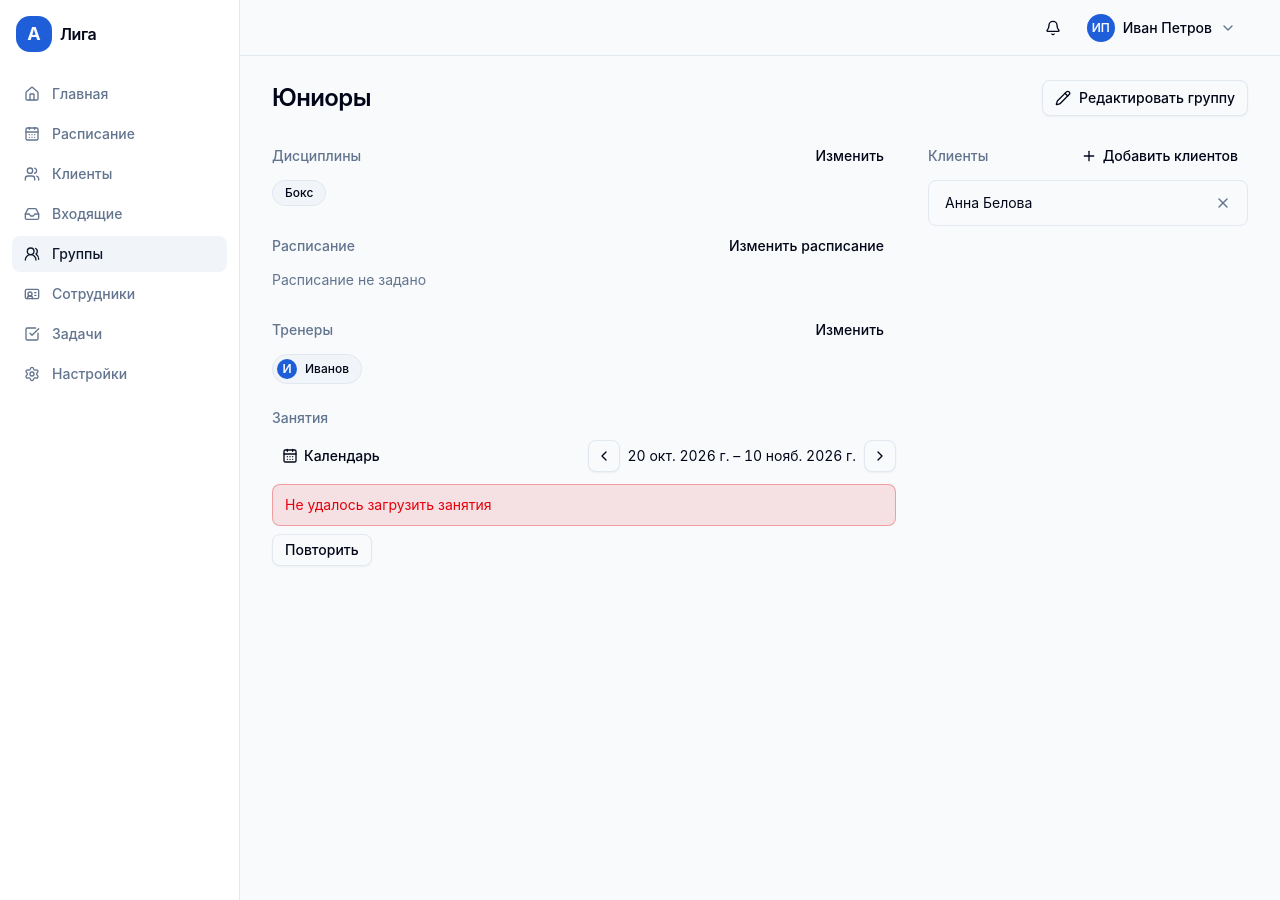
дисциплины и тренеры в карточке › снятие всех дисциплин оставляет группу без дисциплин
The width and height of the screenshot is (1280, 900).
Expected: the list item "Бокс" is shown, [272,180,326,206]
Step 1. Click the button "Изменить" in the row of "Дисциплины" → [850, 156], box [804,140,896,172]
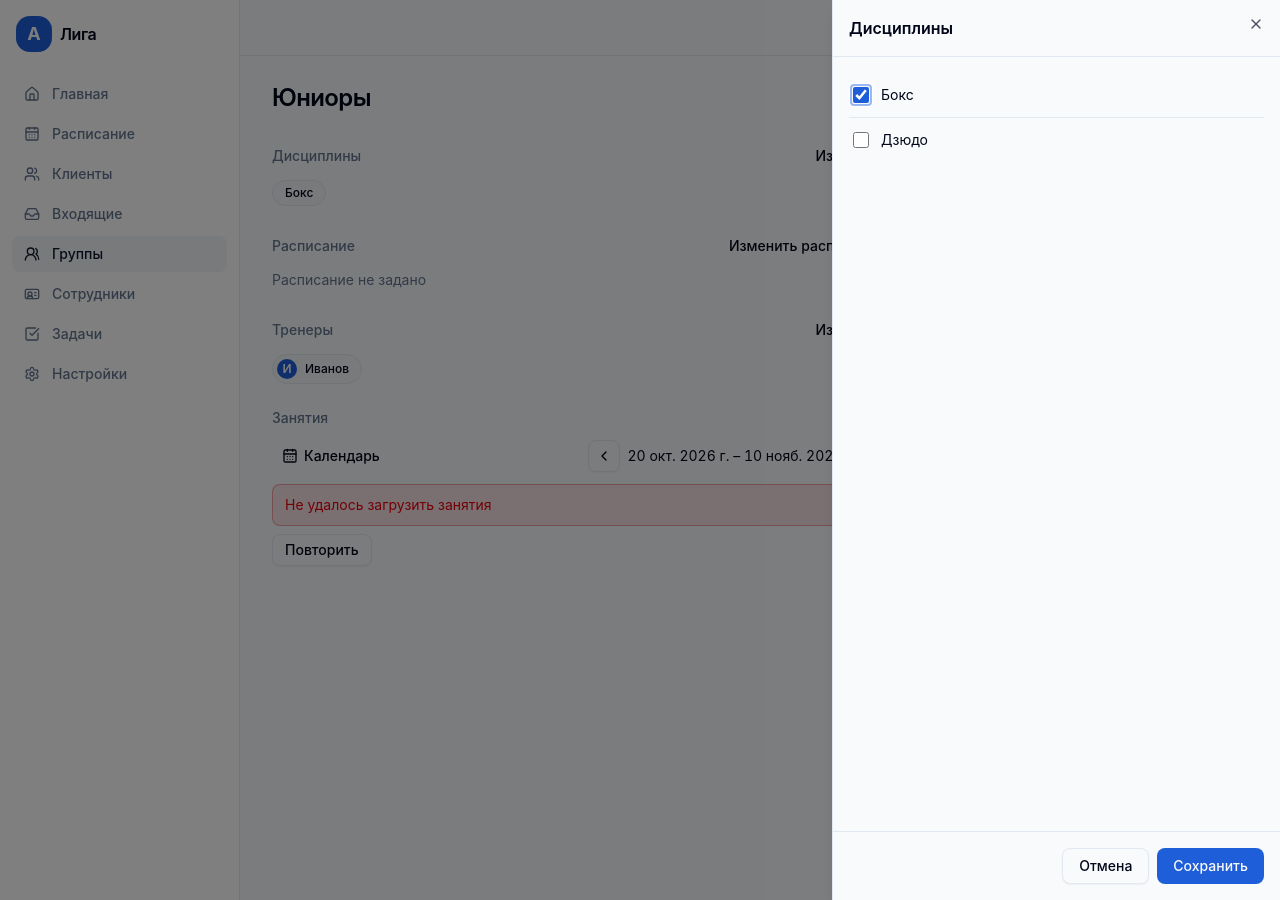
Step 2. Click the checkbox labelled "Бокс" → [861, 95], box [853,87,869,103]
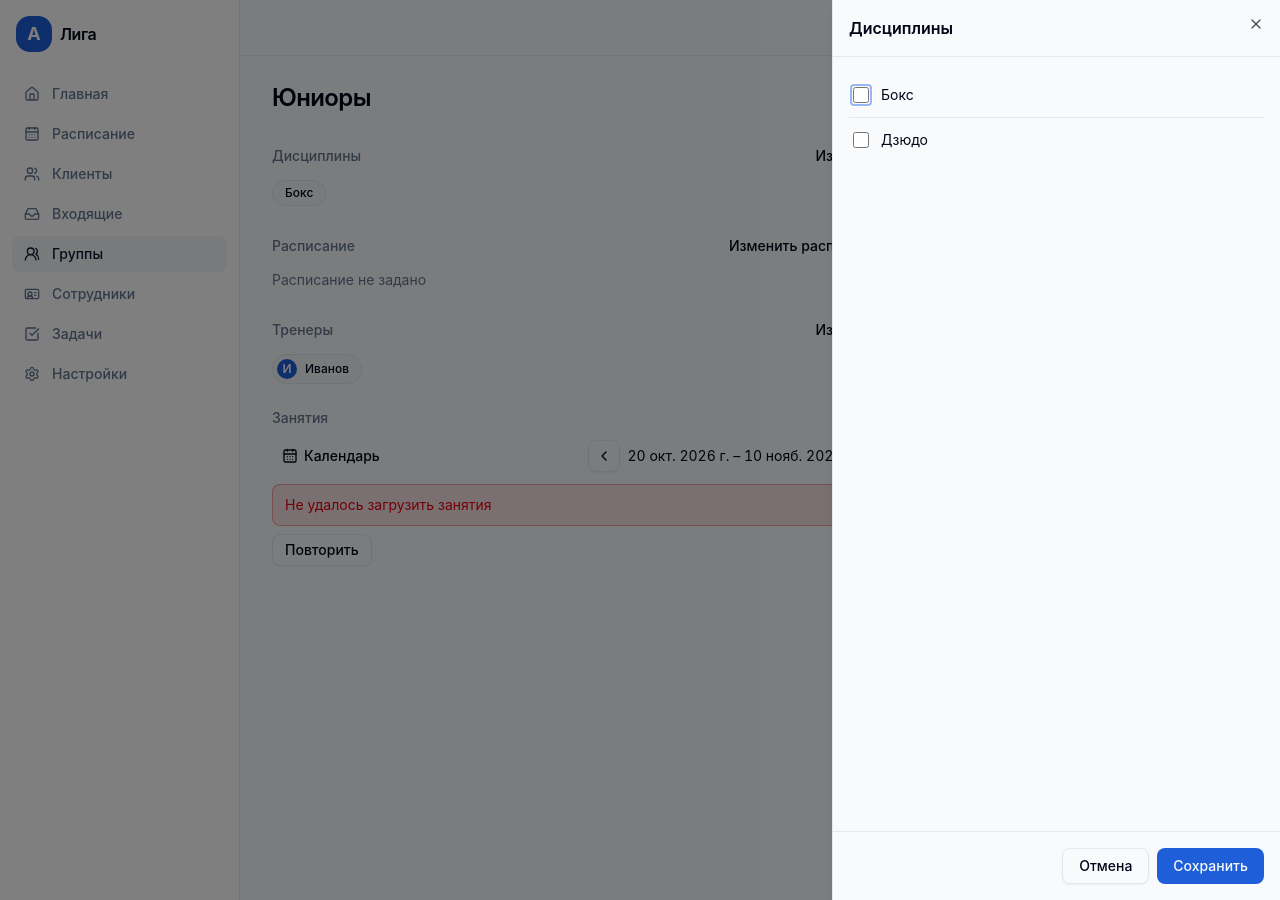
Step 3. Click the button "Сохранить" → [1211, 866], box [1157,848,1264,884]
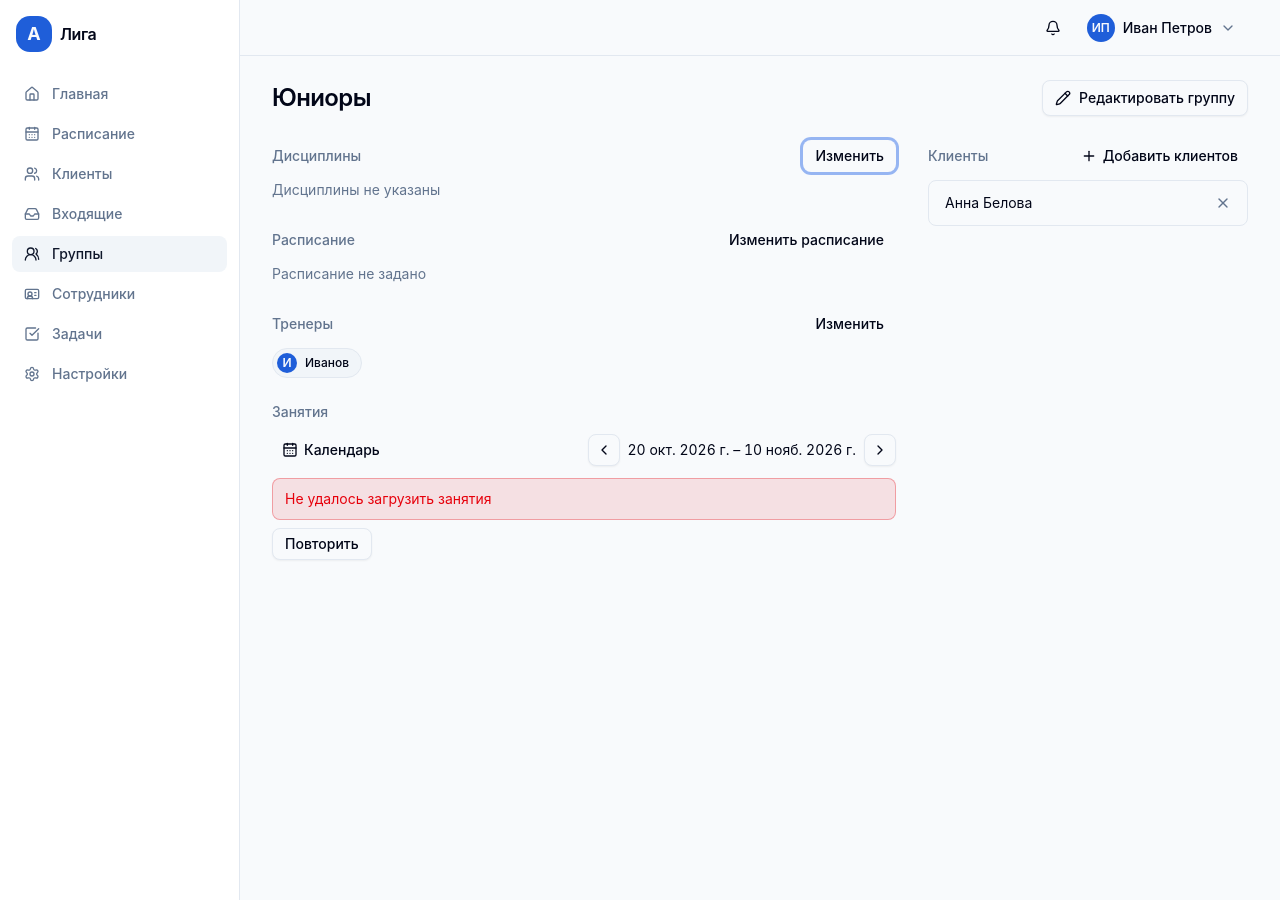
Expected: the text "Дисциплины не указаны" is shown, [272,181,440,198]
